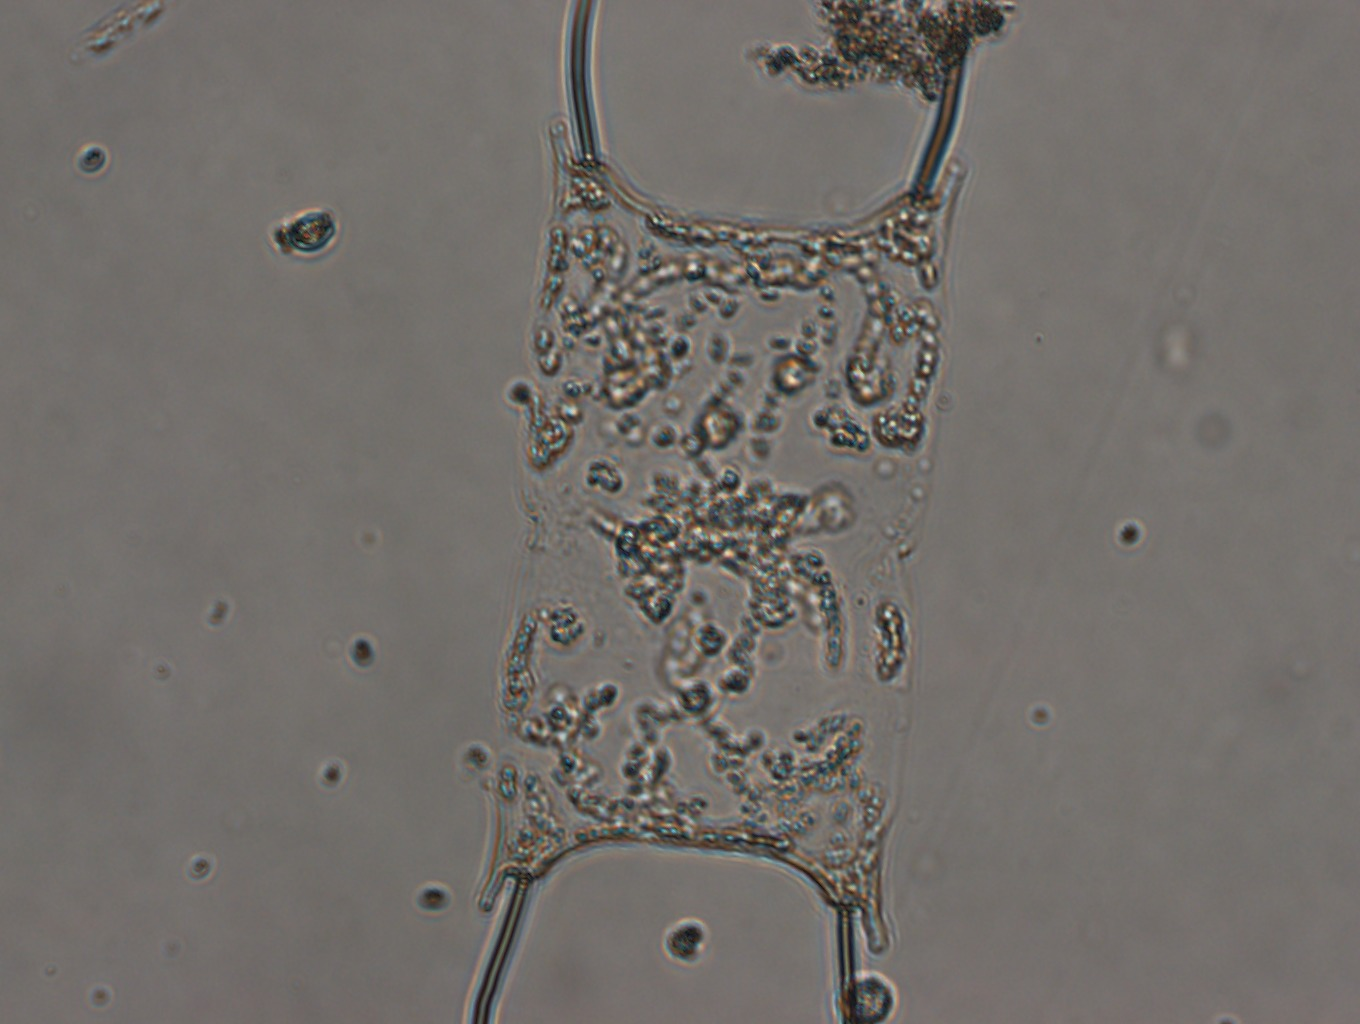biddulphia: (469, 1, 968, 1024)
